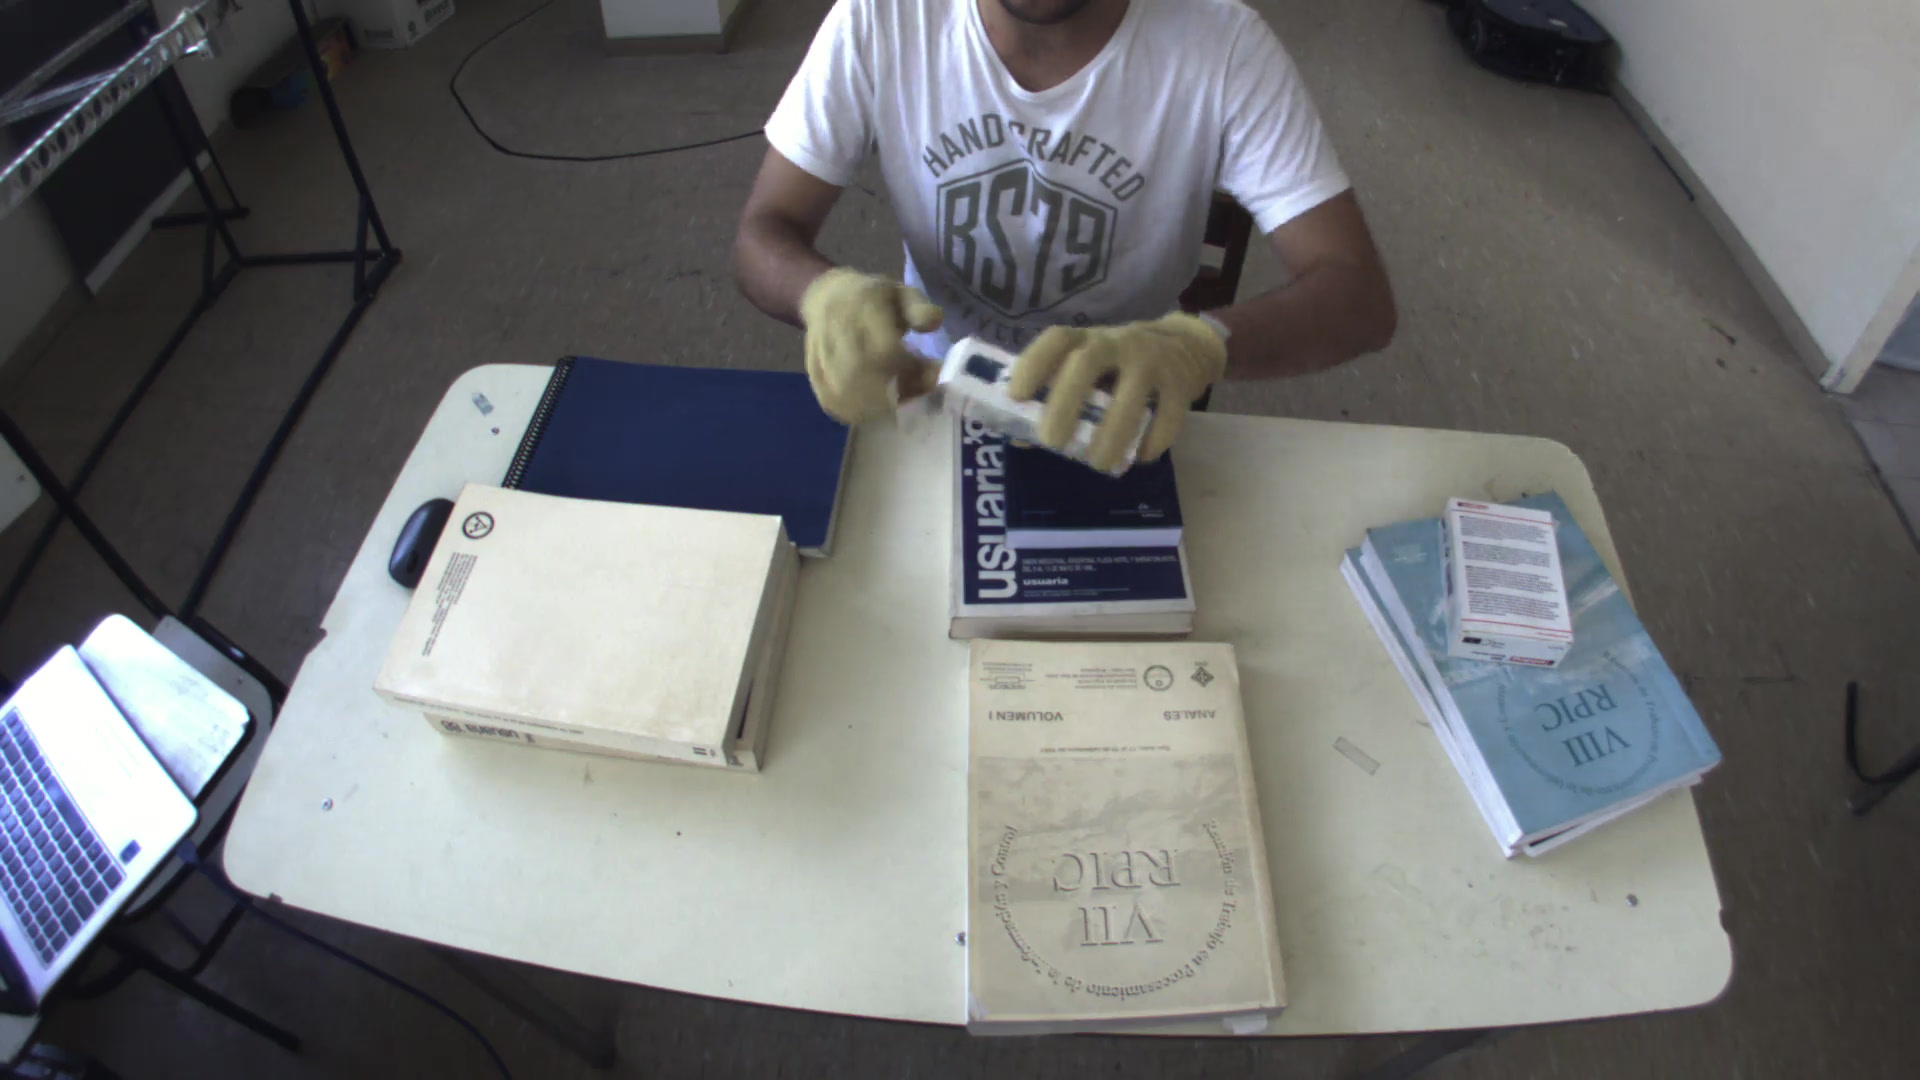hand: (986, 287, 1244, 479), (785, 256, 942, 429)
